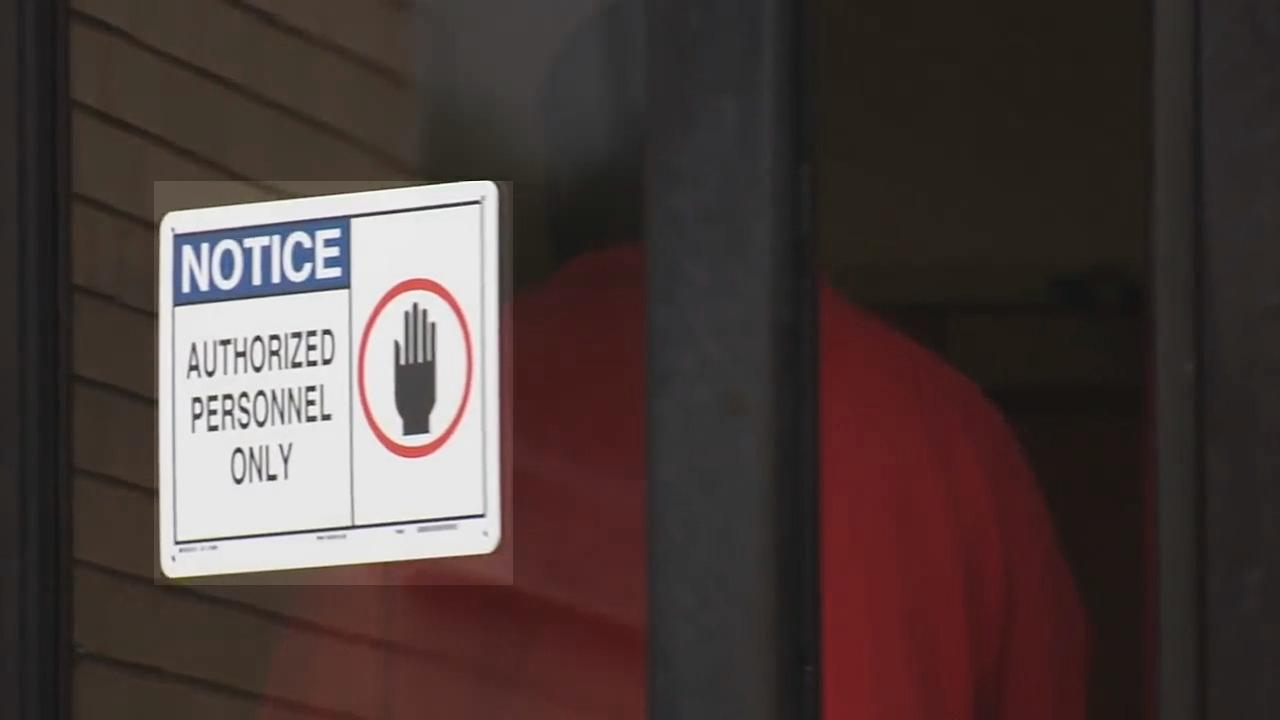safety_signage: (155, 182, 514, 586)
